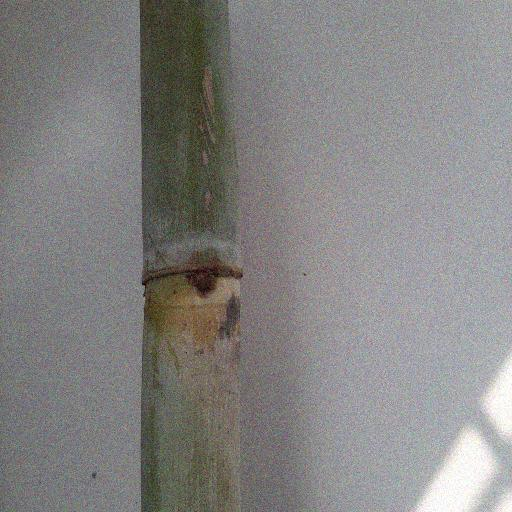Bud: (187, 270, 215, 297)
